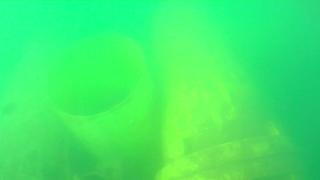pipe: (154, 24, 309, 180), (36, 22, 155, 170)
